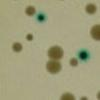Blue_green: (76, 46, 91, 63), (34, 10, 49, 24)
brown: (45, 44, 65, 61), (43, 59, 64, 75), (87, 22, 100, 42), (21, 3, 38, 18), (82, 2, 98, 17), (10, 40, 24, 54), (56, 91, 77, 100), (68, 57, 80, 68), (24, 32, 34, 42), (78, 94, 89, 100), (95, 87, 100, 99)
